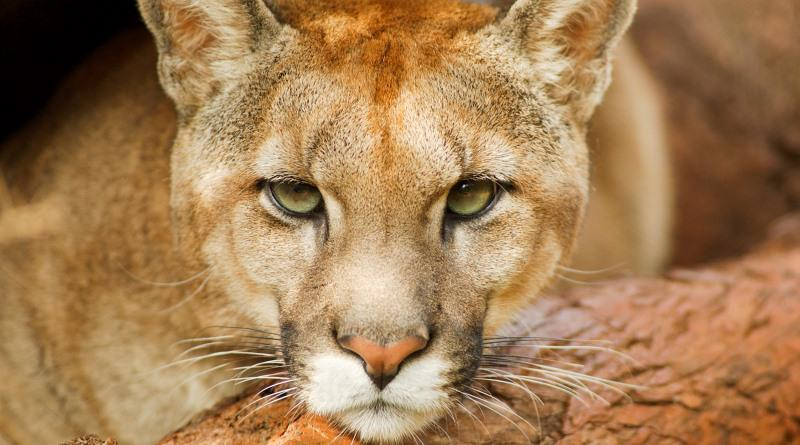OncaParda: (58, 6, 690, 442)
